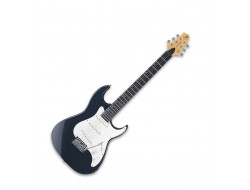ElectricGuitar: (48, 32, 191, 175)
